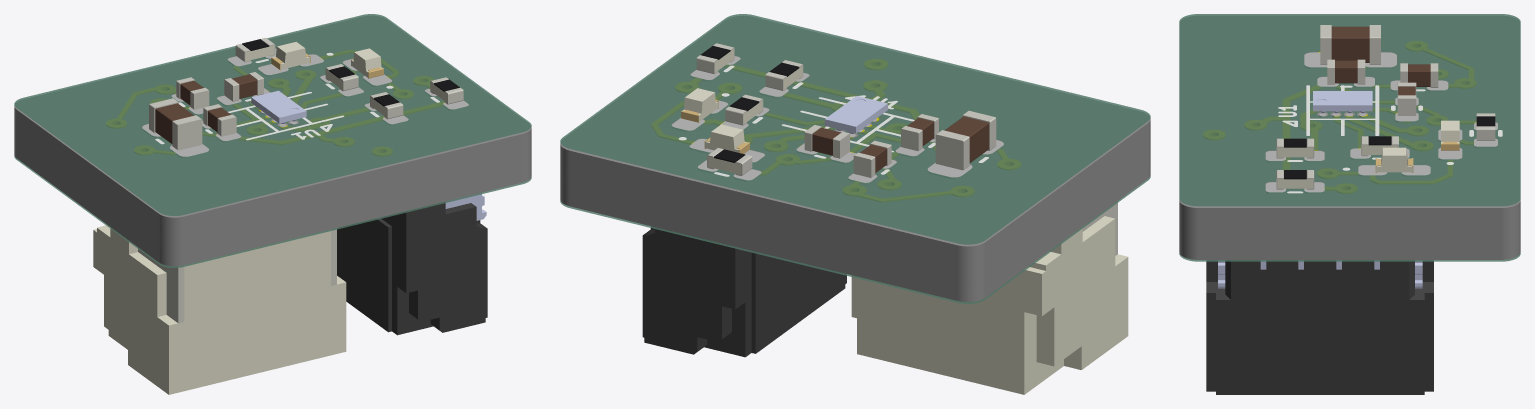
File: MCPM0C1104 board DSBGA.glb
3 views of the same model, side by side, from view 1: azimuth 30°, elevation 25°; view 2: azimuth 150°, elevation 25°; view 3: azimuth 270°, elevation 25° (orthographic). The views are drawn at different scales.
Visible parts, largest first — view 1: =>[0:1:1:15], =>[0:1:1:14], J1, J4, =>[0:1:1:10], =>[0:1:1:11], C4, U1, =>[0:1:1:13], C3, C2, C1 (+6 smaller); view 2: =>[0:1:1:15], =>[0:1:1:14], J1, J4, =>[0:1:1:10], =>[0:1:1:11], C4, U1, C3, =>[0:1:1:13], C1, C2 (+6 smaller); view 3: =>[0:1:1:15], =>[0:1:1:14], J4, =>[0:1:1:10], =>[0:1:1:11], C4, U1, =>[0:1:1:13], C2, D2, C1, R4 (+6 smaller).
Part boxes in pixels (box(x1,y1,x2,y2)): =>[0:1:1:15]: box(14, 16, 531, 266); =>[0:1:1:14]: box(14, 14, 531, 267); J1: box(93, 225, 346, 394); J4: box(337, 193, 487, 335); =>[0:1:1:10]: box(106, 50, 444, 155); =>[0:1:1:11]: box(142, 48, 468, 157); C4: box(149, 98, 202, 150); U1: box(251, 90, 306, 123); =>[0:1:1:13]: box(155, 52, 439, 144); C3: box(224, 72, 263, 101); C2: box(203, 104, 236, 136); C1: box(176, 77, 209, 109); =>[0:1:1:15]: box(560, 16, 1150, 301); =>[0:1:1:14]: box(560, 14, 1150, 303); J1: box(851, 202, 1128, 394); J4: box(642, 227, 846, 357); =>[0:1:1:10]: box(652, 59, 1020, 201); =>[0:1:1:11]: box(671, 56, 1003, 183); C4: box(935, 110, 996, 170); U1: box(824, 96, 887, 133); C3: box(804, 125, 849, 158); =>[0:1:1:13]: box(678, 65, 988, 176); C1: box(853, 140, 891, 177); C2: box(901, 114, 938, 150); =>[0:1:1:15]: box(1179, 16, 1520, 259); =>[0:1:1:14]: box(1179, 14, 1520, 261); J4: box(1206, 260, 1433, 394); =>[0:1:1:10]: box(1203, 41, 1476, 193); =>[0:1:1:11]: box(1265, 52, 1497, 193); C4: box(1320, 25, 1380, 64); U1: box(1313, 91, 1372, 113); =>[0:1:1:13]: box(1278, 85, 1502, 193); C2: box(1327, 59, 1365, 84); D2: box(1375, 147, 1413, 172); C1: box(1400, 63, 1438, 87); R4: box(1276, 138, 1314, 158).
Bounding box in the file's own units: 0.012 × 0.00683 × 0.009.
